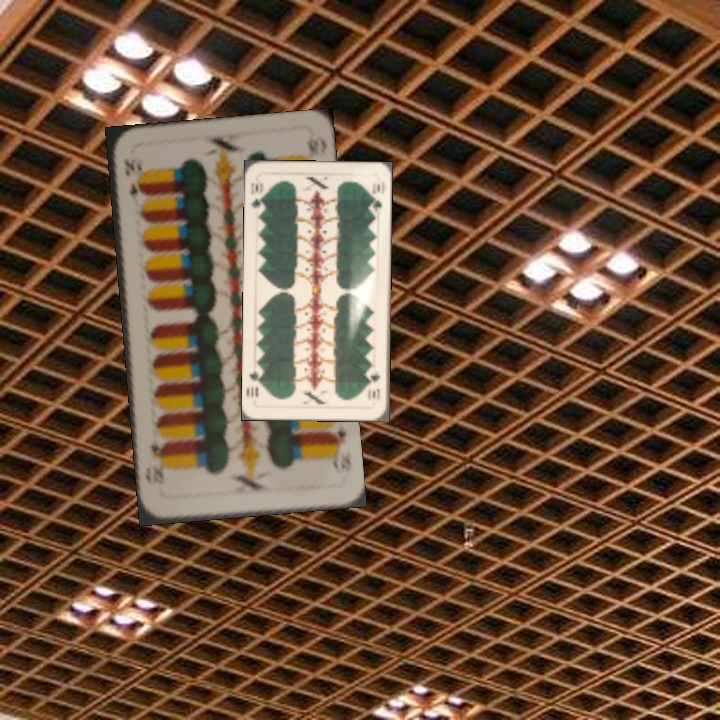E10: (325, 423, 354, 476), (120, 154, 145, 209)
G10: (247, 175, 267, 215), (366, 367, 382, 403)
